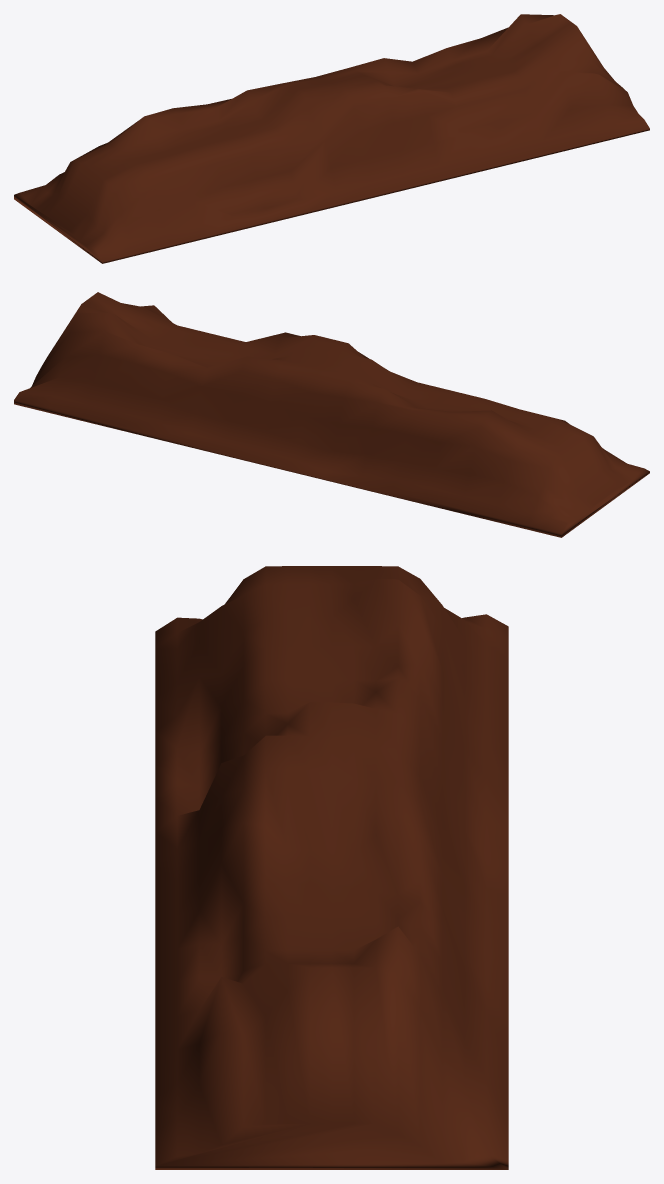
Rendered from wall-long.fbx.
3 views of the same model, one above another, from view 1: azimuth 30°, elevation 25°; view 2: azimuth 150°, elevation 25°; view 3: azimuth 270°, elevation 25° (orthographic). The views are drawn at different scales.
Parts seen in each view (by area): view 1: Plane.020; view 2: Plane.020; view 3: Plane.020.
Part boxes in pixels (x1,y1,x2,y2): Plane.020: (14, 14, 649, 263); Plane.020: (14, 292, 649, 537); Plane.020: (155, 566, 508, 1169).
Size of the model in its own units: 2884 by 445 by 806.
